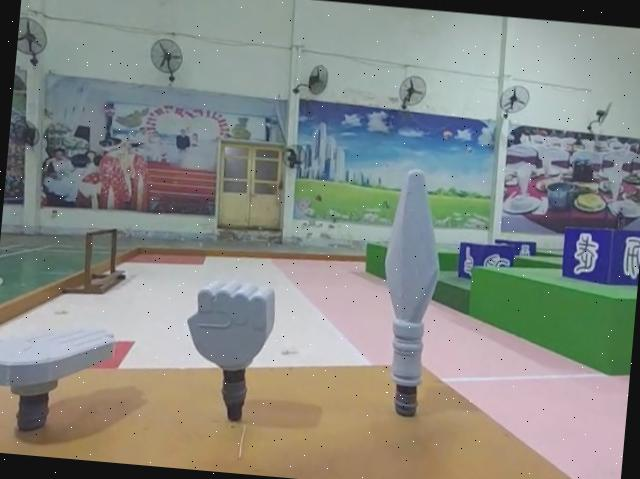Fist: (174, 274, 277, 425)
Hand: (0, 311, 119, 438)
Sph: (369, 172, 450, 425)
